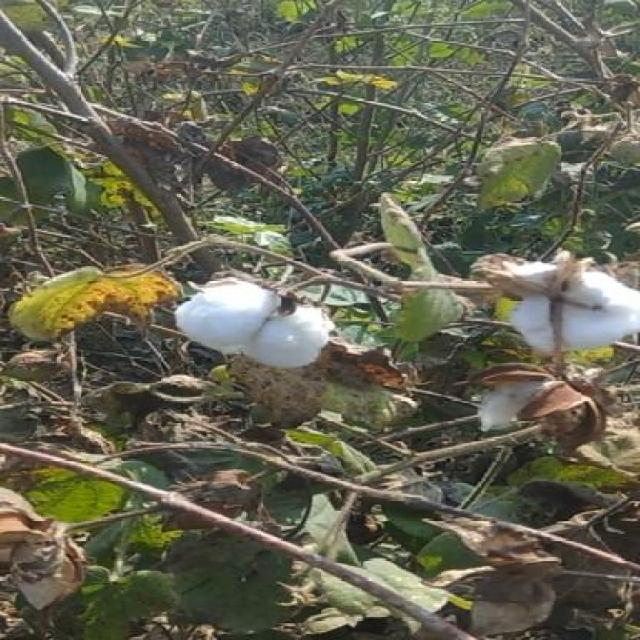cotton_ready: (147, 272, 358, 370), (484, 248, 639, 352)
